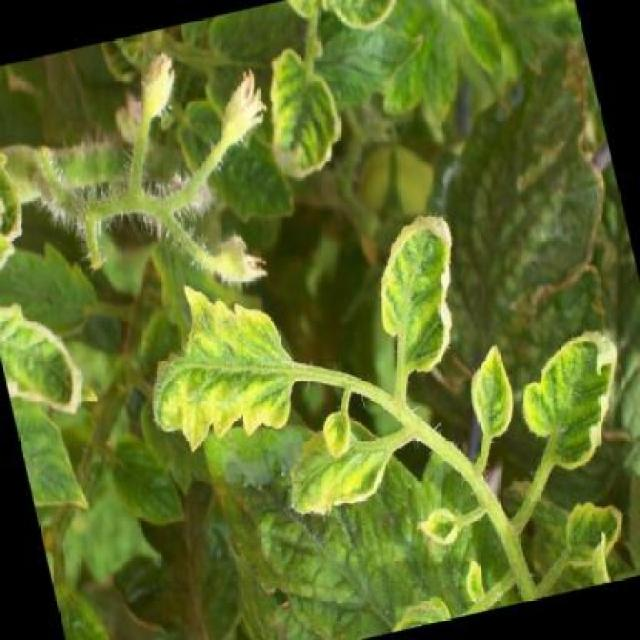Healthy Leaf: (123, 248, 328, 462), (502, 308, 640, 504), (354, 192, 484, 383), (238, 35, 358, 204), (274, 424, 398, 527)
